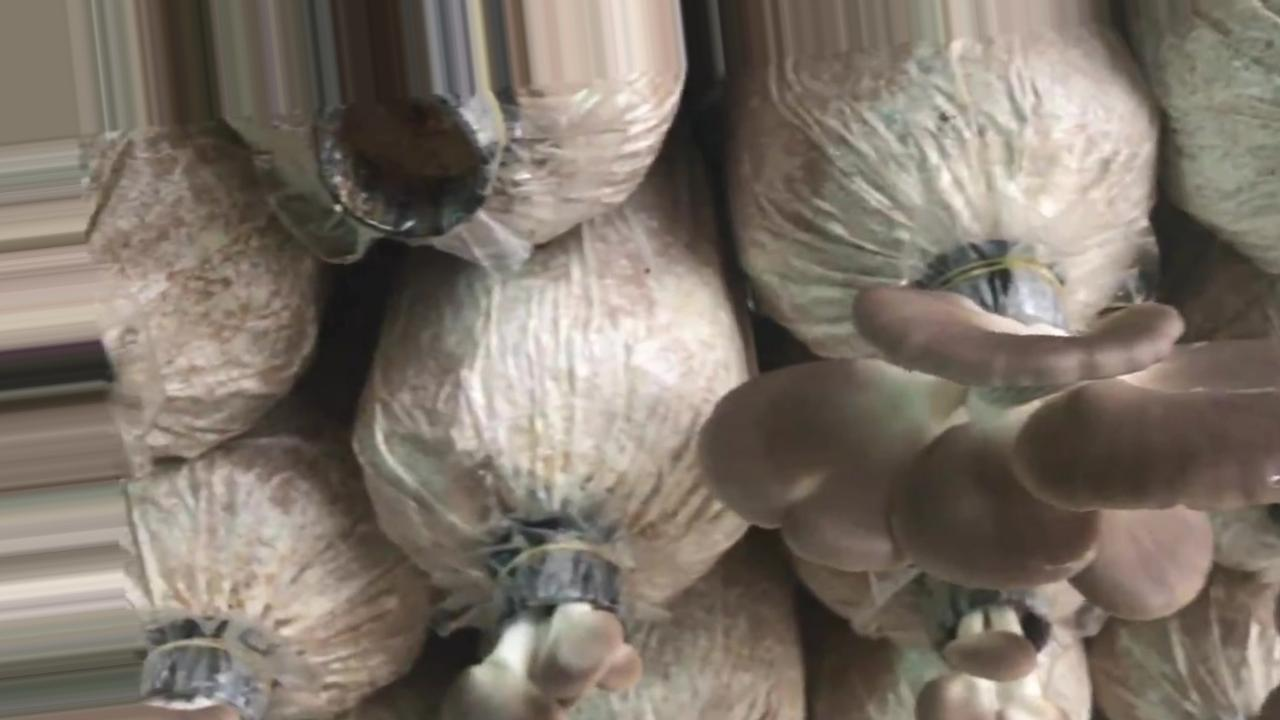nam: (691, 239, 1280, 622), (447, 523, 649, 720), (910, 588, 1059, 720)
